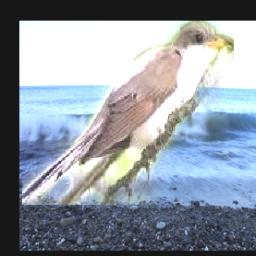Cuckoo: (21, 21, 233, 205)
